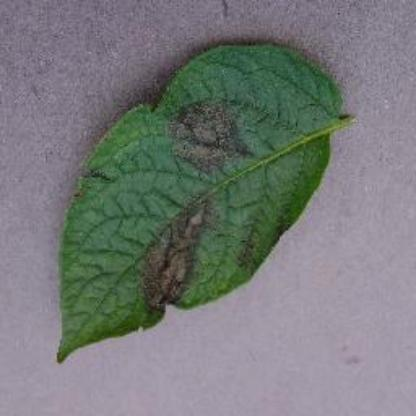Late-Blight: (49, 29, 363, 369)
